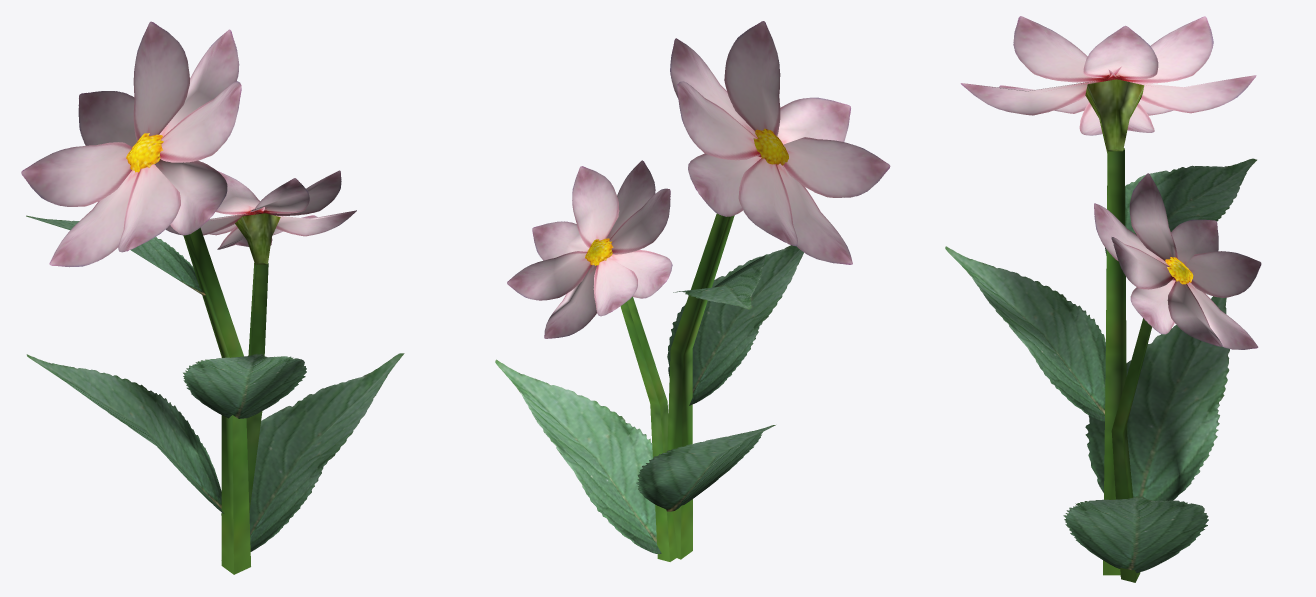
The model's file is whitef4.obj.
3 views of the same model, side by side, from view 1: azimuth 30°, elevation 25°; view 2: azimuth 150°, elevation 25°; view 3: azimuth 270°, elevation 25° (orthographic). The views are drawn at different scales.
Parts seen in each view (by area): view 1: whiteflw04; view 2: whiteflw04; view 3: whiteflw04.
Part boxes in pixels (x1,y1,x2,y2): whiteflw04: [21, 21, 404, 574]; whiteflw04: [495, 21, 890, 561]; whiteflw04: [945, 16, 1261, 582].
Bounding box in the file's own units: 23.13 × 32.88 × 20.27.
Materials: 2 (2 with a texture image).
